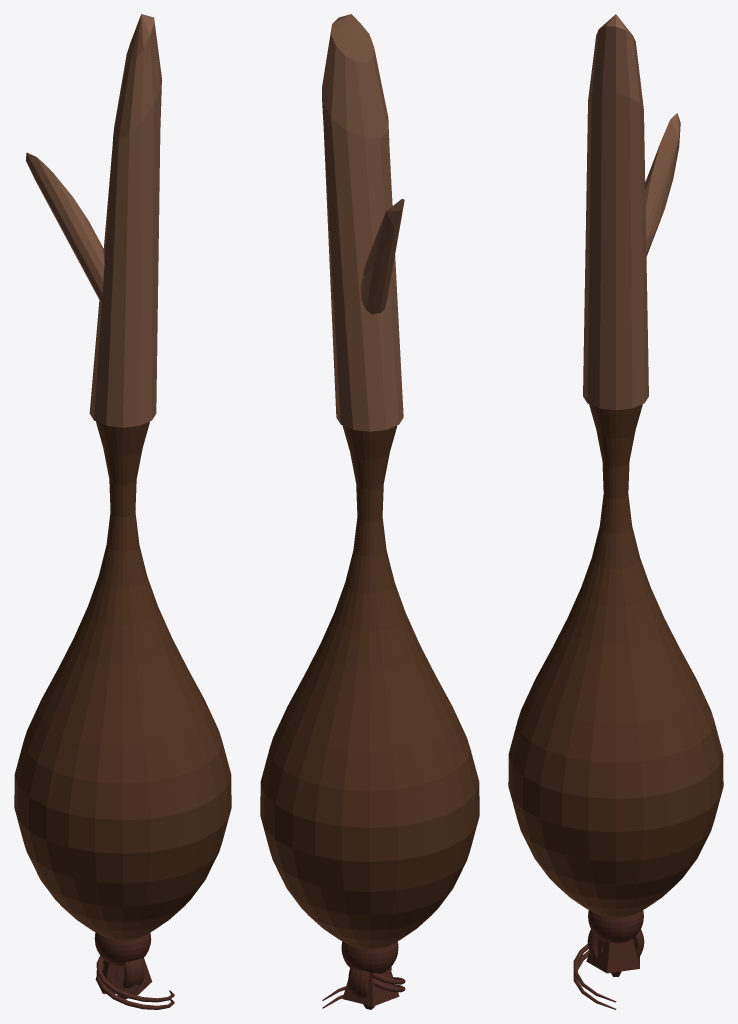
Rendered from Wand 969.glb.
3 renders of one model, left to right at view 1: azimuth 30°, elevation 25°; view 2: azimuth 150°, elevation 25°; view 3: azimuth 270°, elevation 25°, orthographic.
Visible parts, largest first — view 1: GeneratedWand, Pommel_4, Pommel_9, Pommel_2; view 2: GeneratedWand, Pommel_4, Pommel_9, Pommel_2; view 3: GeneratedWand, Pommel_4, Pommel_9.
Part boxes in pixels (x1,y1,x2,y2): GeneratedWand: [14, 14, 231, 1002]; Pommel_4: [94, 932, 151, 966]; Pommel_9: [95, 958, 152, 995]; Pommel_2: [122, 958, 144, 987]; GeneratedWand: [260, 14, 479, 1000]; Pommel_4: [341, 941, 398, 973]; Pommel_9: [342, 968, 399, 1006]; Pommel_2: [348, 966, 391, 997]; GeneratedWand: [508, 14, 723, 1002]; Pommel_4: [588, 910, 643, 943]; Pommel_9: [586, 939, 639, 973].
Size of the model in its own units: 0.1026 by 0.5168 by 0.1026.
